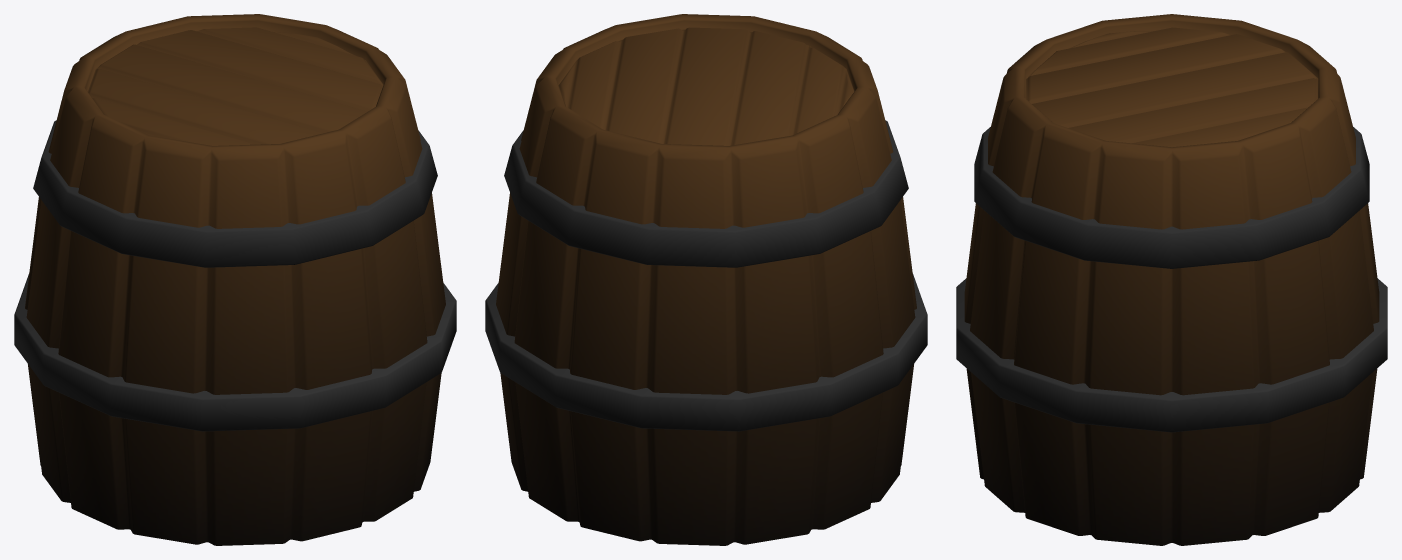
The model's file is SM_Props_Tonneau_01.fbx.
The picture shows the model from 3 angles, left to right: view 1: azimuth 30°, elevation 25°; view 2: azimuth 150°, elevation 25°; view 3: azimuth 270°, elevation 25°; orthographic projection.
Parts seen in each view (by area): view 1: transform13; view 2: transform13; view 3: transform13.
Boxes of the visible parts, left/top/right/bottom form: transform13: left=14, top=14, right=456, bottom=545; transform13: left=485, top=14, right=927, bottom=545; transform13: left=956, top=14, right=1387, bottom=545.
Size of the model in its own units: 73.63 by 70.1 by 71.79.
